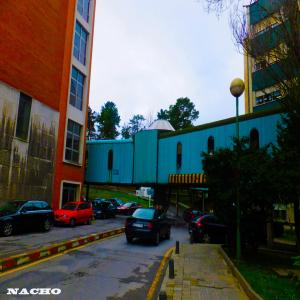Vehicle-registration-plate: (134, 224, 144, 228)
